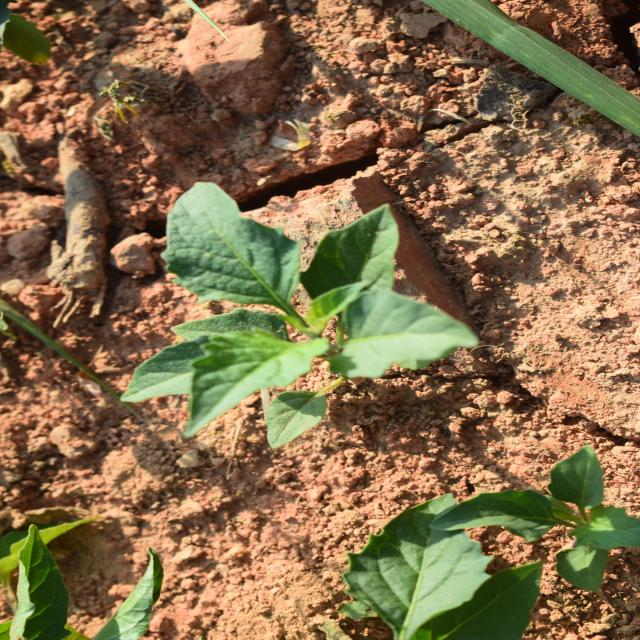Black_nightshade: (214, 120, 443, 440)
